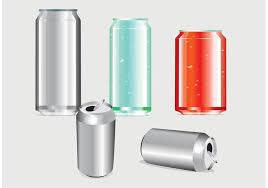Aluminum can: (99, 10, 160, 127), (32, 6, 85, 119), (172, 26, 232, 119), (133, 129, 230, 180), (71, 101, 122, 178)
